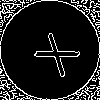X: (25, 25, 81, 79)
